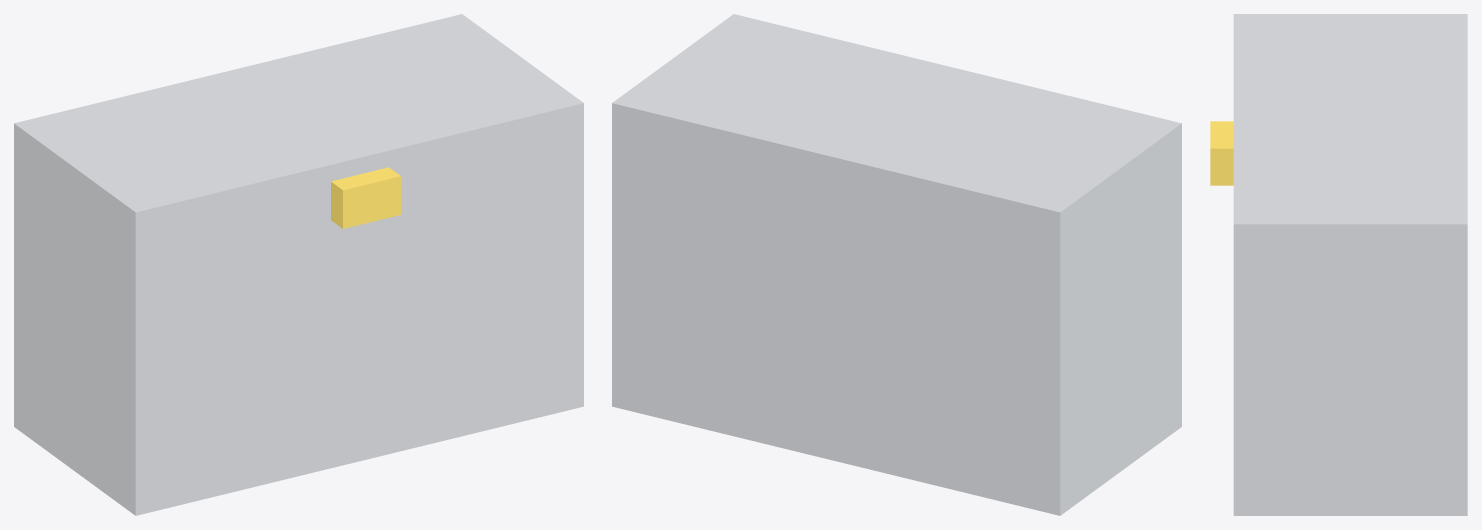
3 renders of one model, left to right at view 1: azimuth 30°, elevation 25°; view 2: azimuth 150°, elevation 25°; view 3: azimuth 270°, elevation 25°, orthographic. The views are drawn at different scales.
Parts seen in each view (by area): view 1: Architecture group frame, Timestep embedding; view 2: Architecture group frame; view 3: Architecture group frame, Timestep embedding.
Boxes of the visible parts, x1,y1,x2,y2 form: Architecture group frame: (14, 14, 583, 515); Timestep embedding: (331, 167, 400, 228); Architecture group frame: (612, 14, 1181, 515); Architecture group frame: (1233, 14, 1467, 515); Timestep embedding: (1210, 121, 1233, 185).
Size of the model in its own units: 17 by 11 by 8.8.
